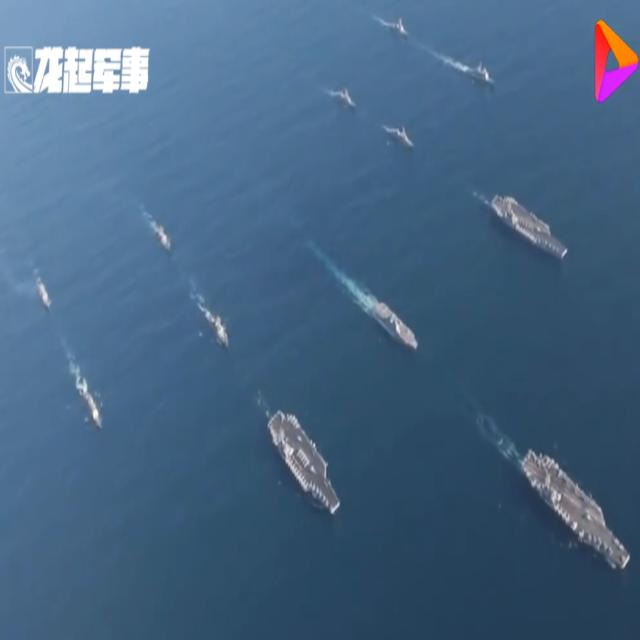navalvessels: (519, 448, 630, 572), (268, 410, 340, 512), (490, 194, 566, 262), (369, 299, 417, 351), (202, 305, 228, 351), (80, 383, 103, 431), (460, 58, 492, 88), (382, 118, 414, 147), (327, 83, 359, 108), (148, 222, 172, 254), (33, 274, 53, 311), (382, 14, 405, 36)
